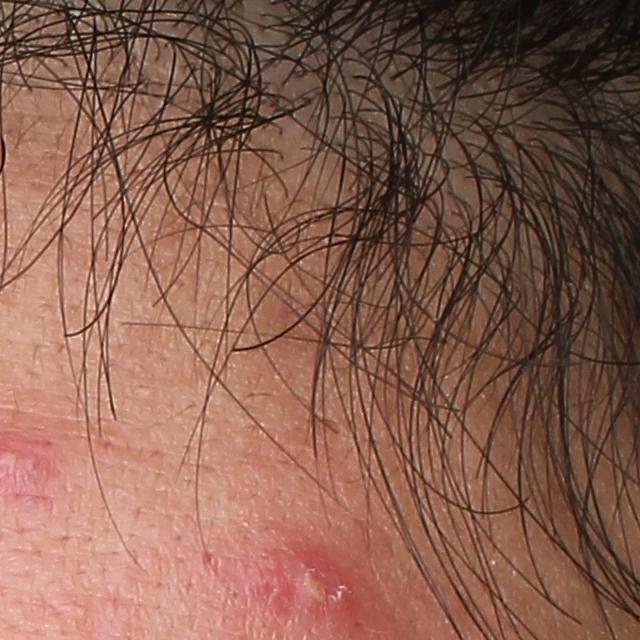pustule: (273, 552, 358, 623)
